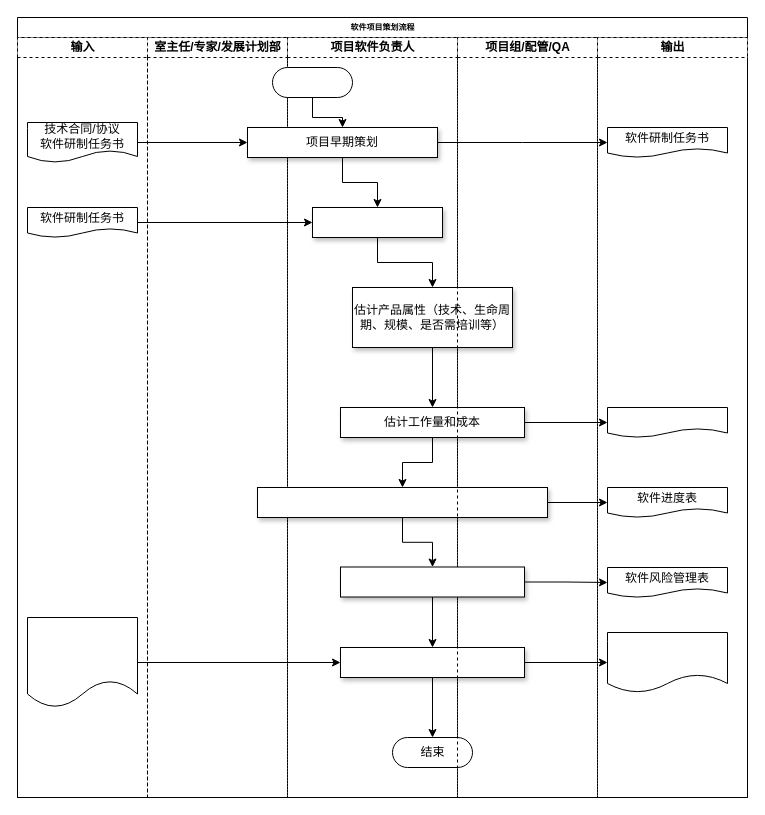
Image size: 765x815. Some labels were removed from this diagram. Each missing label, with the centre of its shape:
估计里程碑和进度: (403,503)
估计项目范围: (378,223)
制订软件计划: (433,663)
开始: (312,82)
软件估算表: (667,422)
软件开发计划 软件配置管理计划 软件质量保证计划: (667,662)
软件研制任务书 软件估算表 软件进度表 软件风险管理表: (82,662)
风险估算，资源估算: (433,583)
